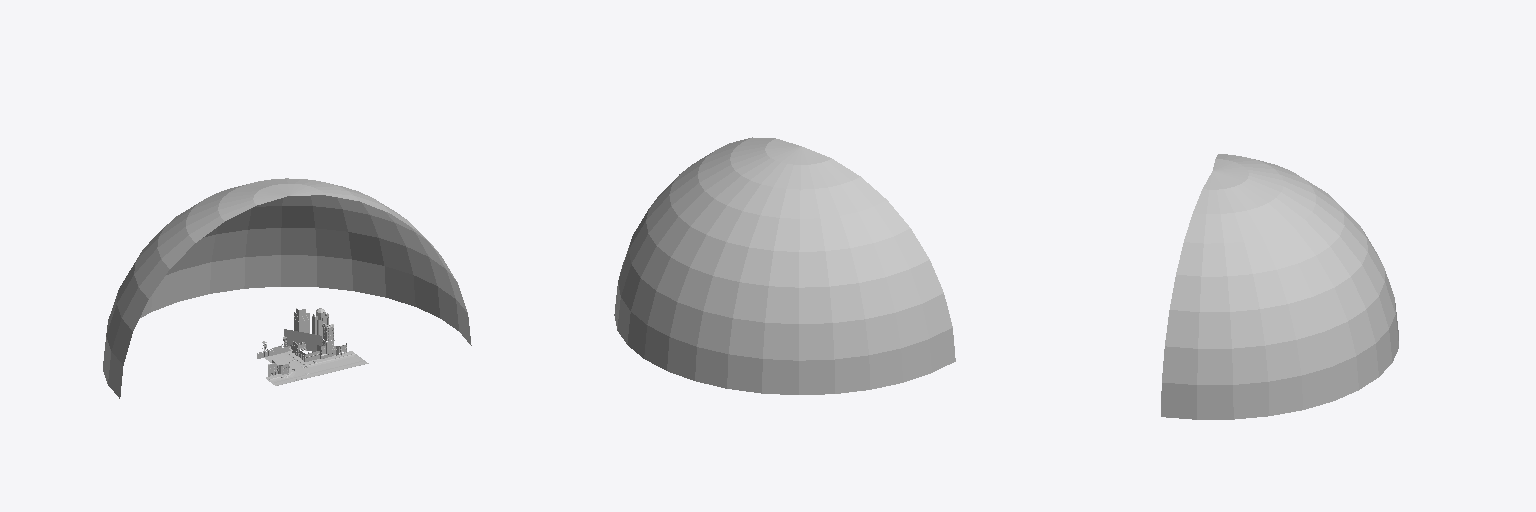
The model's file is Apocalyptic City.obj.
3 views of the same model, side by side, from view 1: azimuth 30°, elevation 25°; view 2: azimuth 150°, elevation 25°; view 3: azimuth 270°, elevation 25° (orthographic).
Parts seen in each view (by area): view 1: sky, road, back_builds, facade005; view 2: sky; view 3: sky.
Boxes of the visible parts, x1=… form: sky: x1=103, y1=178, x2=471, y2=398; road: x1=264, y1=351, x2=368, y2=385; back_builds: x1=294, y1=308, x2=328, y2=338; facade005: x1=268, y1=323, x2=346, y2=376; sky: x1=614, y1=137, x2=955, y2=394; sky: x1=1161, y1=154, x2=1398, y2=419.
Size of the model in its own units: 7509 by 3767 by 4793.